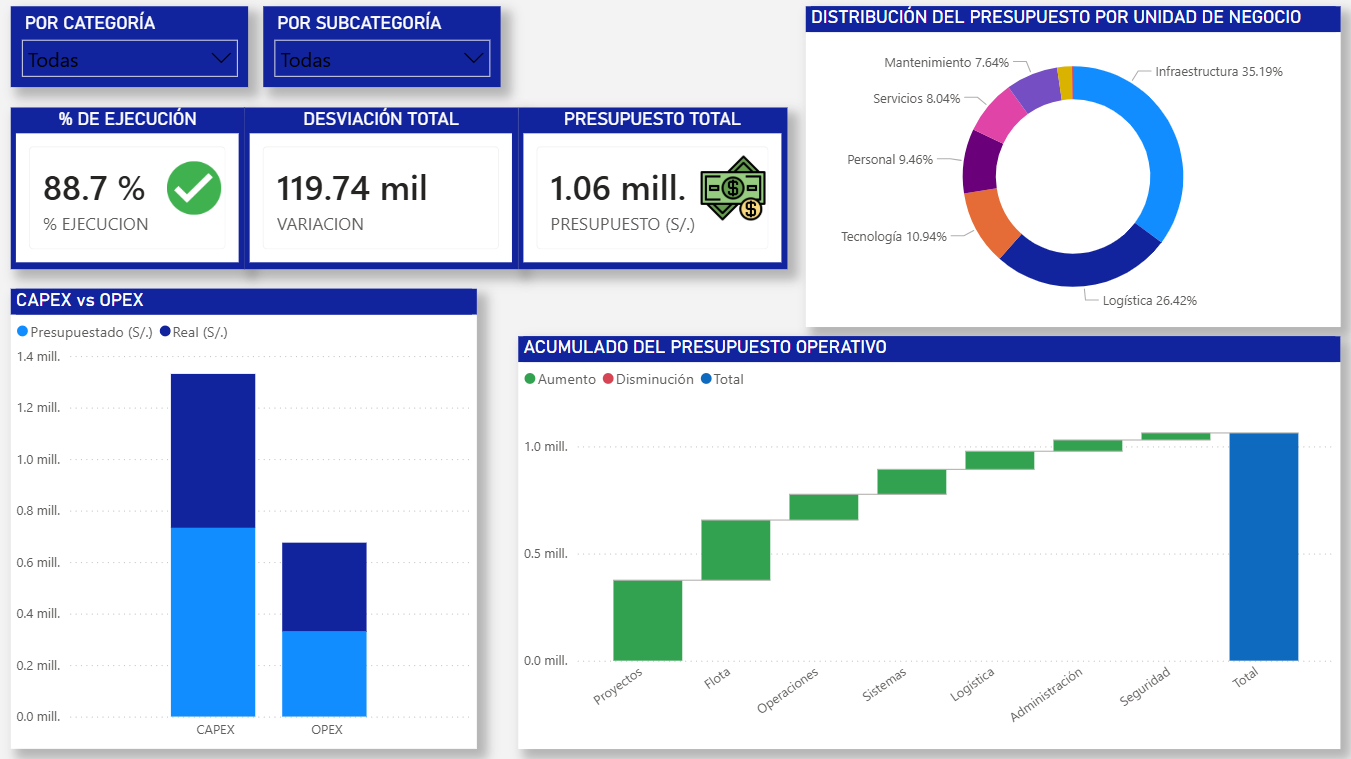

This screenshot's page, from the dashboard's own definition file:
{"tool":"powerbi","page":{"name":"Página 1","canvas":[1280,720],"ordinal":0},"visuals":[{"type":"cardVisual","title":"% DE EJECUCIÓN","fields":{"Data":["Tabla1.% EJECUCION"]},"box":[22.1,109.3,217.4,150],"z":0},{"type":"cardVisual","title":"DESVIACIÓN TOTAL","fields":{"Data":["Tabla1.VARIACION"]},"box":[239.5,109.3,254.7,150],"z":1},{"type":"slicer","title":"Centro de costos","fields":{"Values":["Tabla1.Centro de Costo"]},"box":[257,15.1,220.9,75.6],"z":2},{"type":"columnChart","title":"CAPEX vs OPEX","fields":{"Category":["Tabla1.Categoría"],"Y":["Sum(Tabla1.Presupuesto (S/.))","Sum(Tabla1.Real (S/.))"]},"box":[25.6,280.2,433.7,427.9],"z":3},{"type":"cardVisual","title":"PRESUPUESTO TOTAL","fields":{"Data":["Sum(Tabla1.Presupuesto (S/.))"]},"box":[494.2,109.3,250,150],"z":4},{"type":"slicer","title":"Centro de costos","fields":{"Values":["Tabla1.Categoría"]},"box":[22.1,15.1,220.9,75.6],"z":5},{"type":"donutChart","title":"DISTRIBUCIÓN DEL PRESUPUESTO POR UNIDAD DE NEGOCIO","fields":{"Category":["Tabla1.Subcategoría"],"Y":["Sum(Tabla1.Presupuesto (S/.))"]},"box":[761.6,15.1,497.7,298],"z":6},{"type":"waterfallChart","title":"ACUMULADO DEL PRESUPUESTO OPERATIVO","fields":{"Category":["Tabla1.Centro de Costo"],"Y":["Sum(Tabla1.Presupuesto (S/.))"]},"box":[494.2,324.4,765.1,383.7],"z":7},{"type":"image","box":[167.4,144.2,50,80.2],"z":8},{"type":"image","box":[662.8,144.2,62.8,80.2],"z":9}]}

Visuals, with their boxes in screenshot pixels (x1, y1, x2, y2), scaled from the page's 1280x720 canvas onto the 1351x759 screenshot:
"% DE EJECUCIÓN" cardVisual: x1=23, y1=115, x2=253, y2=273
"DESVIACIÓN TOTAL" cardVisual: x1=253, y1=115, x2=522, y2=273
"Centro de costos" slicer: x1=271, y1=16, x2=504, y2=96
"CAPEX vs OPEX" columnChart: x1=27, y1=295, x2=485, y2=746
"PRESUPUESTO TOTAL" cardVisual: x1=522, y1=115, x2=785, y2=273
"Centro de costos" slicer: x1=23, y1=16, x2=256, y2=96
"DISTRIBUCIÓN DEL PRESUPUESTO POR UNIDAD DE NEGOCIO" donutChart: x1=804, y1=16, x2=1329, y2=330
"ACUMULADO DEL PRESUPUESTO OPERATIVO" waterfallChart: x1=522, y1=342, x2=1329, y2=746
image: x1=177, y1=152, x2=229, y2=237
image: x1=700, y1=152, x2=766, y2=237
